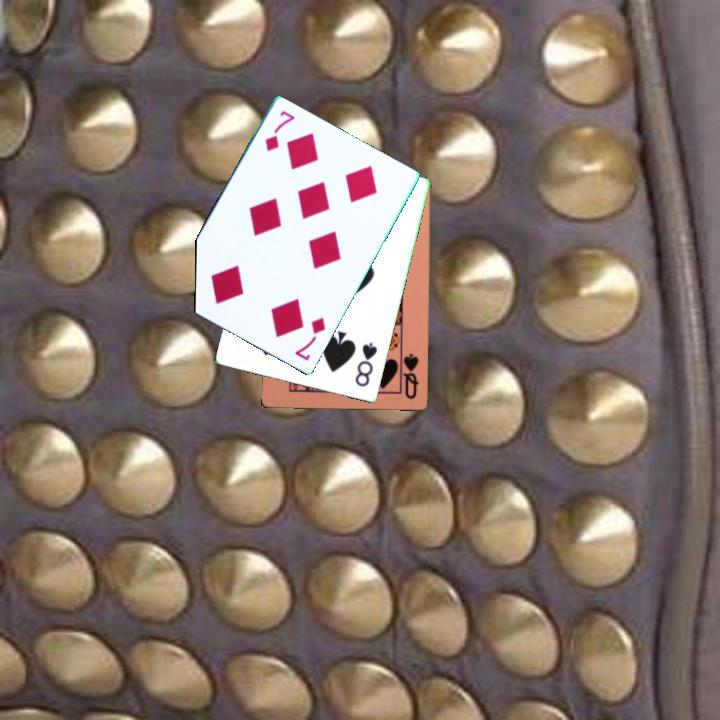7d: (291, 314, 329, 364), (261, 107, 297, 155)
8s: (352, 339, 381, 390)
Qs: (398, 348, 422, 402)
